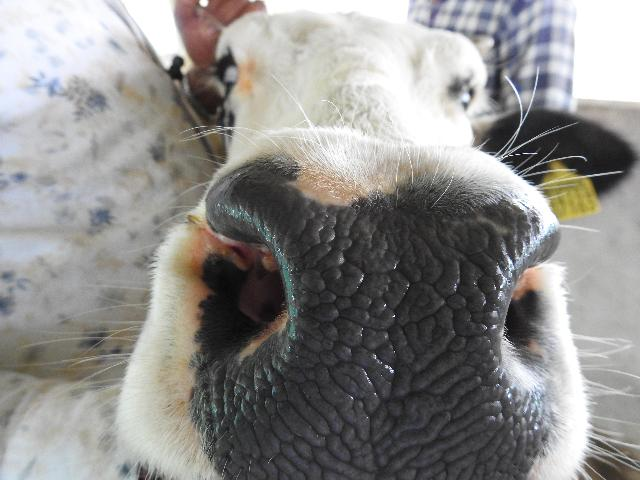Muzzle: (263, 198, 499, 480)
